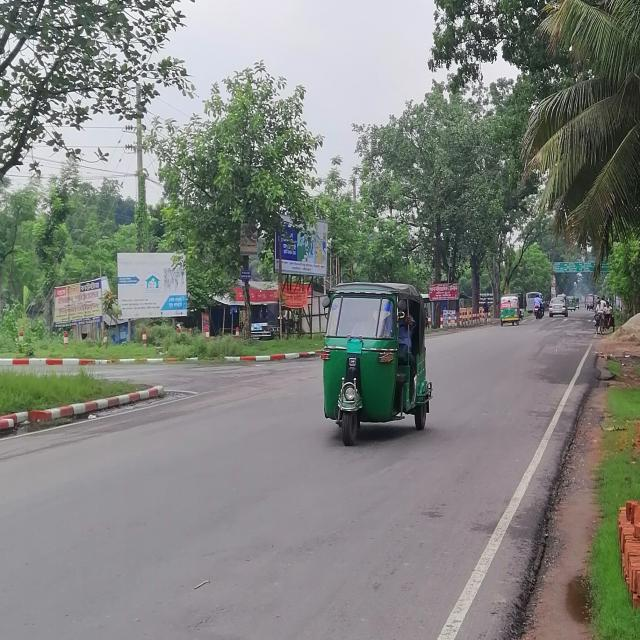CNG: (313, 282, 410, 450)
